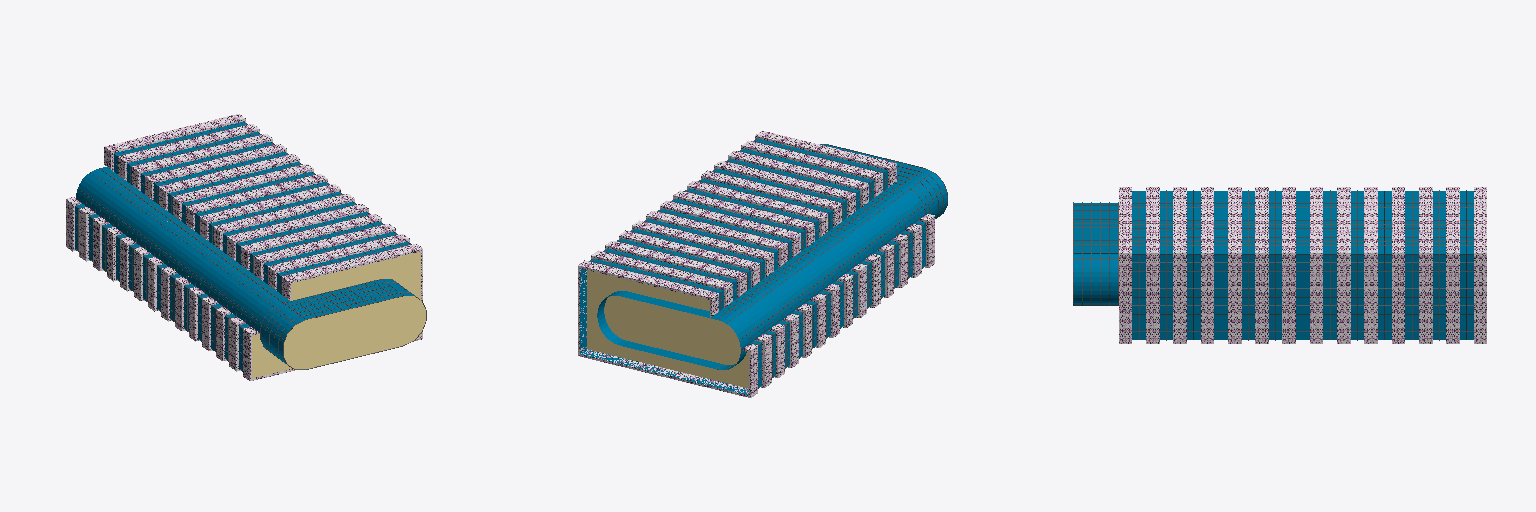
3 renders of one model, left to right at view 1: azimuth 30°, elevation 25°; view 2: azimuth 150°, elevation 25°; view 3: azimuth 270°, elevation 25°, orthographic.
Parts seen in each view (by area): view 1: wall_01, glass_01, slab_01, glass_02, wall_02, Frame_01; view 2: wall_01, glass_01, slab_01, glass_02, wall_02, Frame_01; view 3: wall_01, glass_02, Frame_01, glass_01.
Part boxes in pixels (x1,y1,x2,y2): wall_01: (66,114,422,380); glass_01: (76,167,414,363); slab_01: (167,221,425,377); glass_02: (75,122,410,370); wall_02: (73,119,422,380); Frame_01: (75,121,426,371); wall_01: (578,131,934,397); glass_01: (597,144,947,369); slab_01: (587,218,858,388); glass_02: (580,139,925,394); wall_02: (578,136,928,397); Frame_01: (589,138,947,388); wall_01: (1119,187,1486,343); glass_02: (1132,191,1473,339); Frame_01: (1073,190,1473,340); glass_01: (1073,203,1118,304).
Bounding box in the file's own units: 1228 × 614 × 2542.
4 materials, 1 textured.